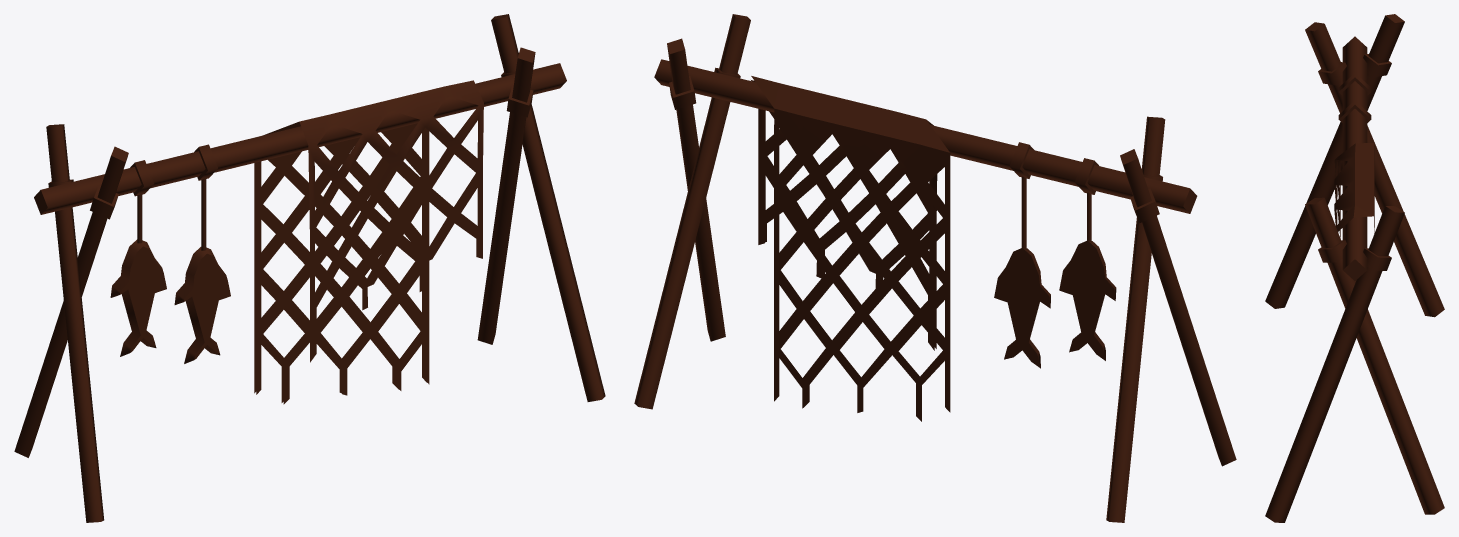
The model's file is fish_net.fbx.
3 renders of one model, left to right at view 1: azimuth 30°, elevation 25°; view 2: azimuth 150°, elevation 25°; view 3: azimuth 270°, elevation 25°, orthographic. The views are drawn at different scales.
Parts seen in each view (by area): view 1: fish_net; view 2: fish_net; view 3: fish_net.
Part boxes in pixels (left/top/right/bottom): fish_net: left=14, top=14, right=605, bottom=522; fish_net: left=634, top=14, right=1236, bottom=522; fish_net: left=1265, top=14, right=1444, bottom=522.
Bounding box in the file's own units: 240 × 153 × 81.88.
